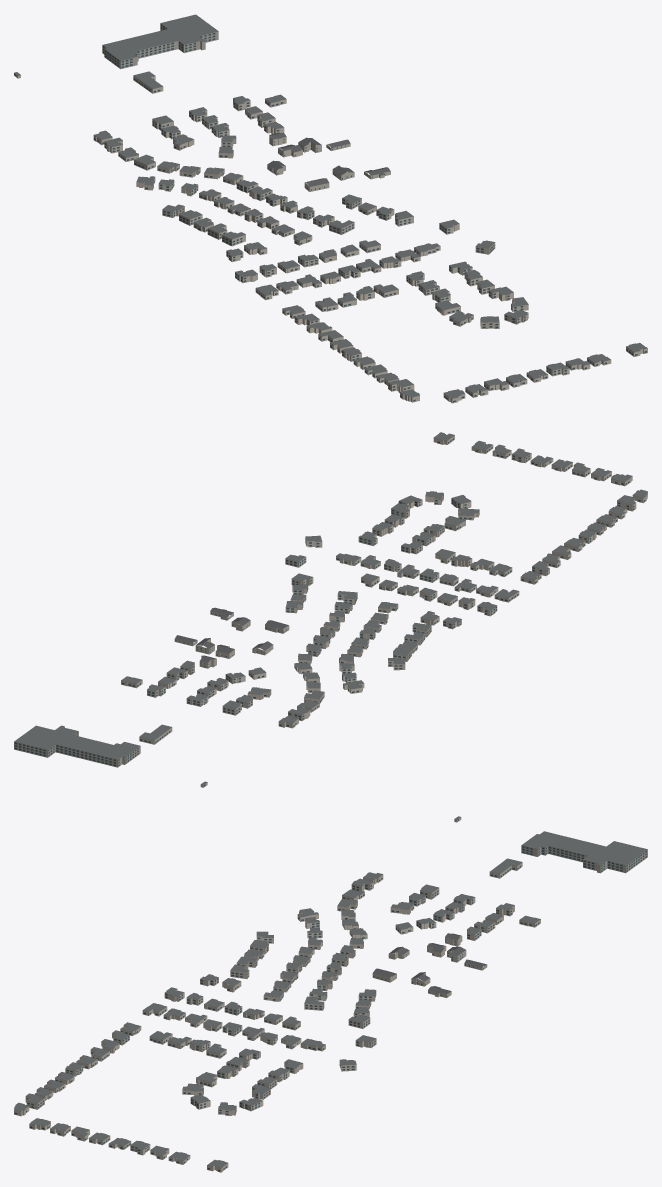
The picture shows the model from 3 angles, top to bottom: view 1: azimuth 30°, elevation 25°; view 2: azimuth 150°, elevation 25°; view 3: azimuth 330°, elevation 25°; orthographic projection. The views are drawn at different scales.
Parts seen in each view (by area): view 1: Buildings (-7, 2) Roof membrane, Buildings (-7, 2) Masonry brick, Buildings (-7, 2) Architectural tinted glass, Buildings (-7, 2) Metal coping, Buildings (-7, 2) Architectural concrete, Buildings (-7, 2) Roof shingles, Buildings (-7, 2) House siding; view 2: Buildings (-7, 2) Roof membrane, Buildings (-7, 2) Masonry brick, Buildings (-7, 2) Architectural tinted glass, Buildings (-7, 2) Metal coping, Buildings (-7, 2) Architectural concrete, Buildings (-7, 2) Roof shingles, Buildings (-7, 2) House siding; view 3: Buildings (-7, 2) Roof membrane, Buildings (-7, 2) Masonry brick, Buildings (-7, 2) Architectural tinted glass, Buildings (-7, 2) Metal coping, Buildings (-7, 2) Architectural concrete, Buildings (-7, 2) Roof shingles, Buildings (-7, 2) House siding.
Boxes of the visible parts, left/top/right/bottom form: Buildings (-7, 2) Roof membrane: left=14, top=14, right=647, bottom=398; Buildings (-7, 2) Masonry brick: left=14, top=73, right=647, bottom=403; Buildings (-7, 2) Architectural tinted glass: left=14, top=24, right=646, bottom=402; Buildings (-7, 2) Metal coping: left=14, top=14, right=644, bottom=398; Buildings (-7, 2) Architectural concrete: left=102, top=23, right=218, bottom=69; Buildings (-7, 2) Roof shingles: left=267, top=132, right=390, bottom=186; Buildings (-7, 2) House siding: left=267, top=141, right=390, bottom=191; Buildings (-7, 2) Roof membrane: left=14, top=432, right=647, bottom=784; Buildings (-7, 2) Masonry brick: left=121, top=435, right=647, bottom=787; Buildings (-7, 2) Architectural tinted glass: left=14, top=438, right=645, bottom=786; Buildings (-7, 2) Metal coping: left=14, top=433, right=647, bottom=784; Buildings (-7, 2) Architectural concrete: left=14, top=727, right=140, bottom=767; Buildings (-7, 2) Roof shingles: left=175, top=607, right=288, bottom=662; Buildings (-7, 2) House siding: left=174, top=610, right=289, bottom=655; Buildings (-7, 2) Roof membrane: left=14, top=816, right=647, bottom=1167; Buildings (-7, 2) Masonry brick: left=14, top=817, right=540, bottom=1172; Buildings (-7, 2) Architectural tinted glass: left=14, top=819, right=646, bottom=1171; Buildings (-7, 2) Metal coping: left=14, top=819, right=647, bottom=1168; Buildings (-7, 2) Architectural concrete: left=521, top=845, right=647, bottom=873; Buildings (-7, 2) Roof shingles: left=373, top=933, right=484, bottom=994; Buildings (-7, 2) House siding: left=372, top=950, right=487, bottom=997.
Bounding box in the file's own units: 271 × 13.1 × 914.
